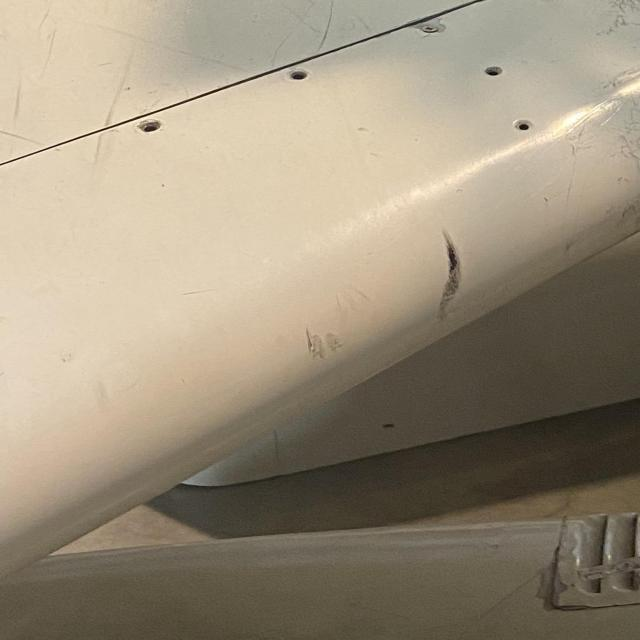Missing-head: (139, 118, 164, 133), (484, 65, 502, 78), (516, 120, 533, 133), (290, 70, 308, 82)
